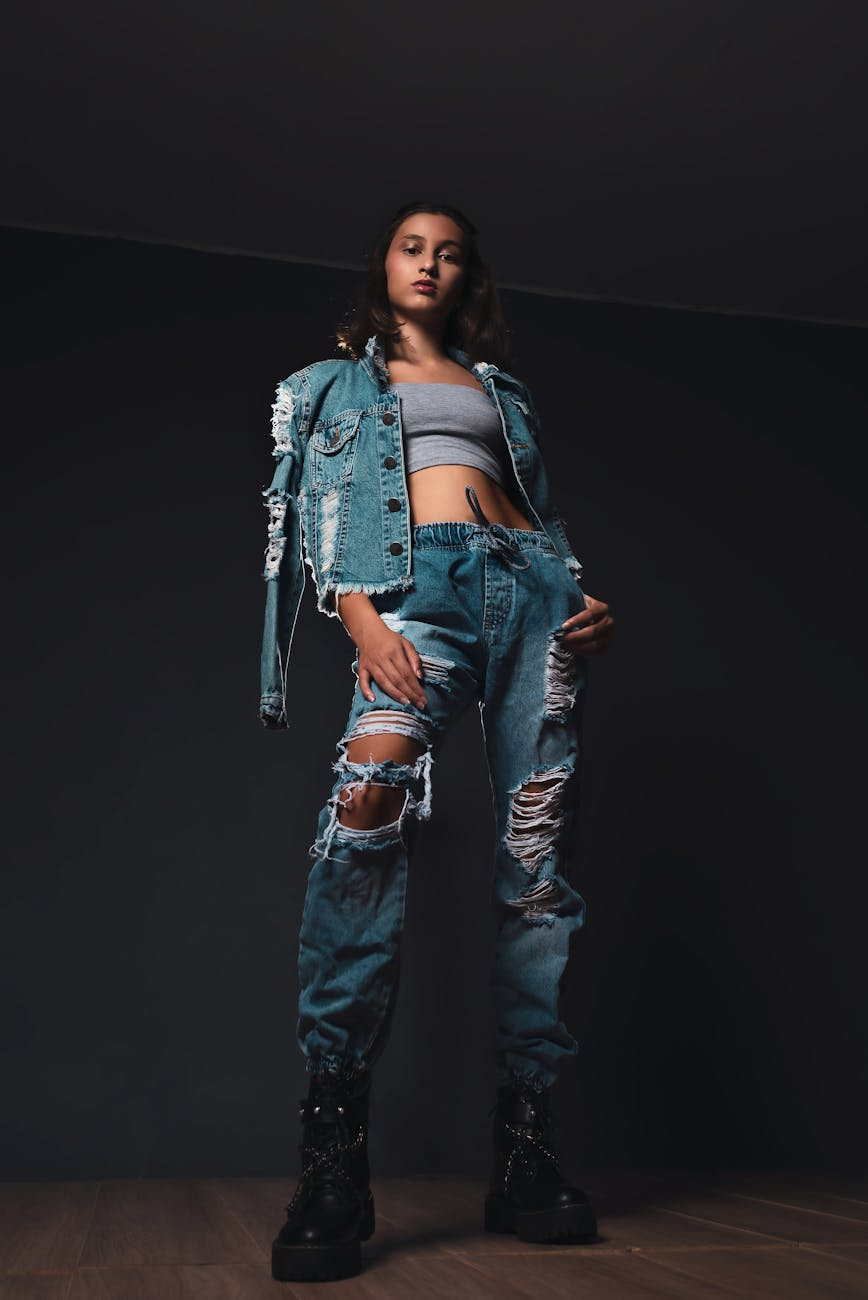crop_top: (352, 366, 517, 485)
ripped_jeans: (285, 609, 601, 1143)
